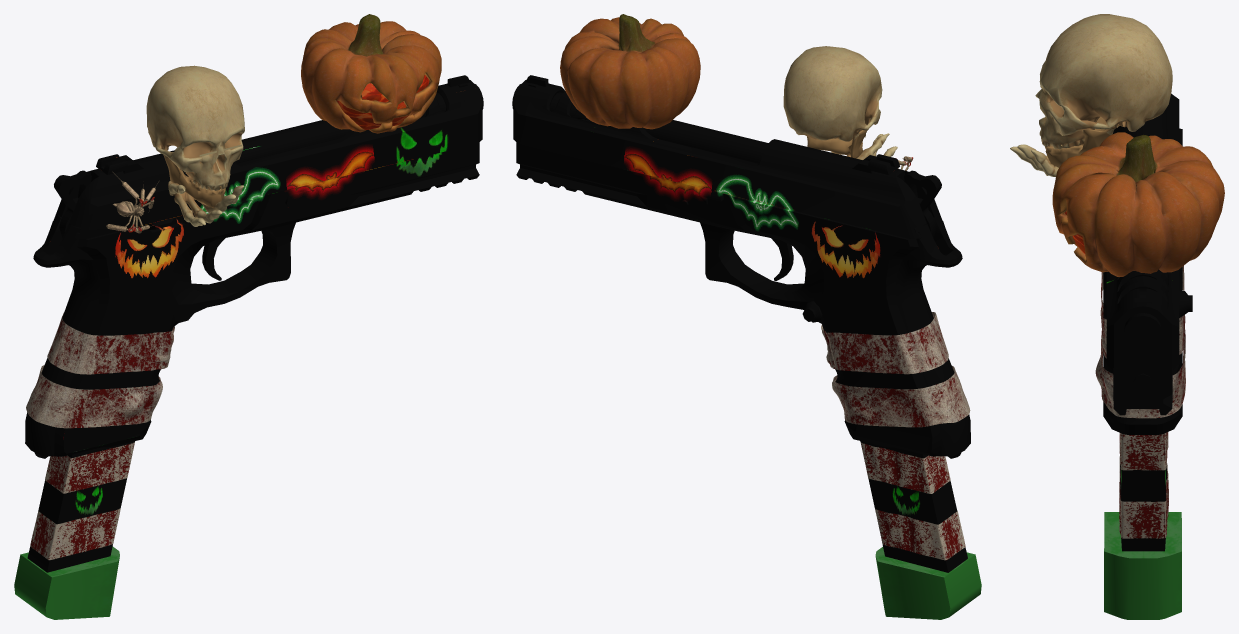
The model's file is WEAPON_FIVE_HALLOWEEN.glb.
3 views of the same model, side by side, from view 1: azimuth 30°, elevation 25°; view 2: azimuth 150°, elevation 25°; view 3: azimuth 270°, elevation 25° (orthographic). The views are drawn at different scales.
Visible parts, largest first — view 1: Gun_Root.002; view 2: Gun_Root.002; view 3: Gun_Root.002.
Boxes of the visible parts, box(x1,y1,x2,y2) form: Gun_Root.002: box(14, 14, 483, 619); Gun_Root.002: box(512, 14, 981, 619); Gun_Root.002: box(1010, 14, 1224, 619).
Bounding box in the file's own units: 0.2222 × 0.2494 × 0.0755.
Materials: 9 (9 with a texture image).
